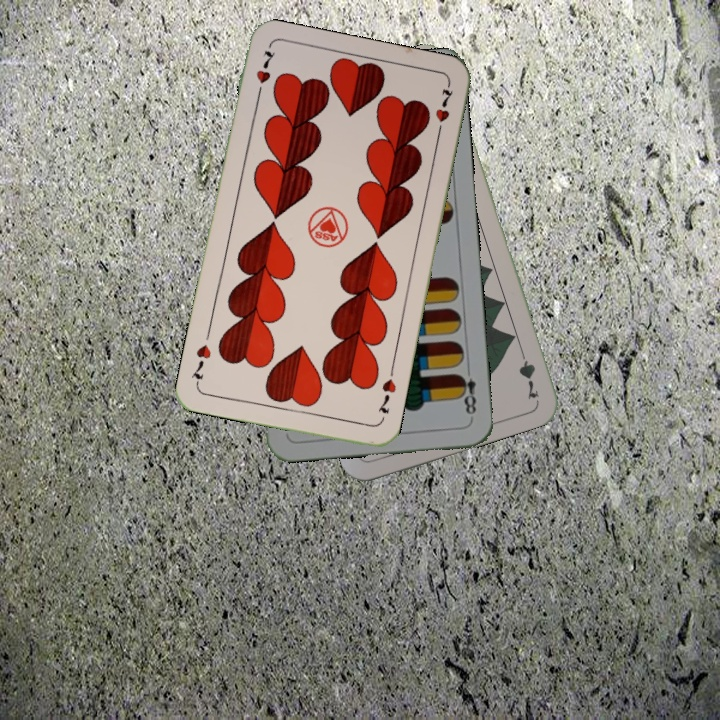E8: (454, 362, 479, 421)
G7: (515, 343, 541, 401)
H7: (252, 46, 278, 102), (374, 365, 399, 416)
